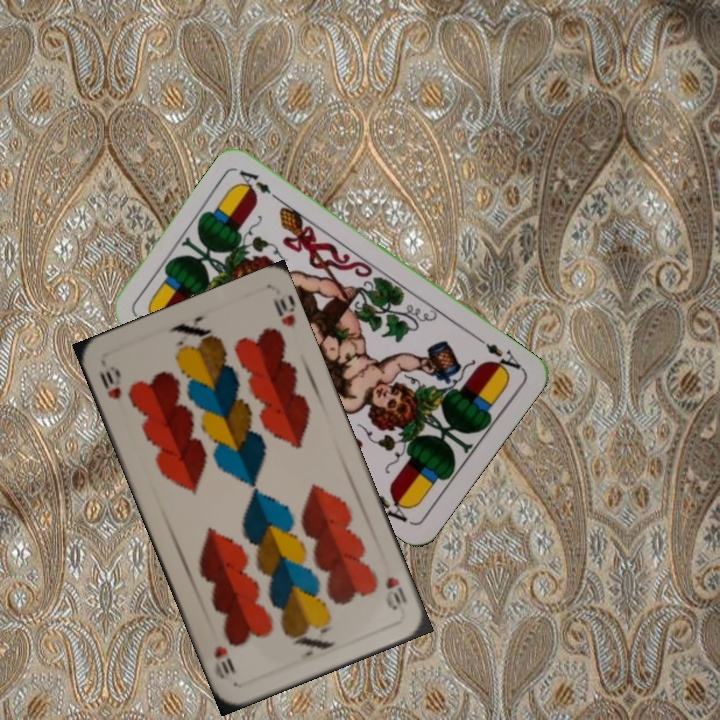EA: (474, 334, 525, 378)
H10: (381, 572, 410, 613), (95, 362, 124, 402)
